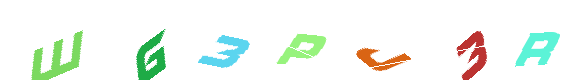3: (228, 0, 308, 80), (342, 0, 422, 80)
G: (110, 0, 190, 80)
J: (250, 0, 330, 80)
N: (434, 0, 514, 80)
P: (246, 0, 326, 80)
R: (351, 0, 431, 80)
W: (19, 0, 99, 80)
